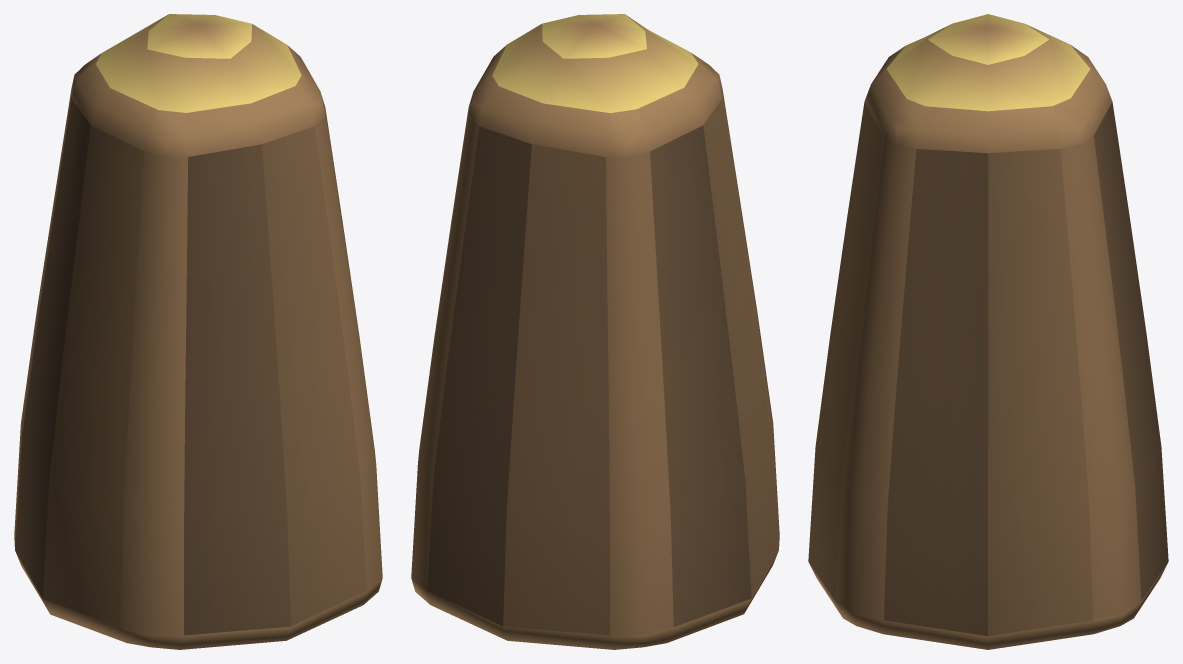
File: wooden_cubes4.fbx
3 renders of one model, left to right at view 1: azimuth 30°, elevation 25°; view 2: azimuth 150°, elevation 25°; view 3: azimuth 270°, elevation 25°, orthographic.
Visible parts, largest first — view 1: wooden_cubes4; view 2: wooden_cubes4; view 3: wooden_cubes4.
Part boxes in pixels (bbox=[...]): wooden_cubes4: bbox=[14, 14, 382, 649]; wooden_cubes4: bbox=[411, 14, 779, 649]; wooden_cubes4: bbox=[808, 14, 1168, 649].
Size of the model in its own units: 6773 by 11711 by 6812.
Materials: 1 (1 with a texture image).
